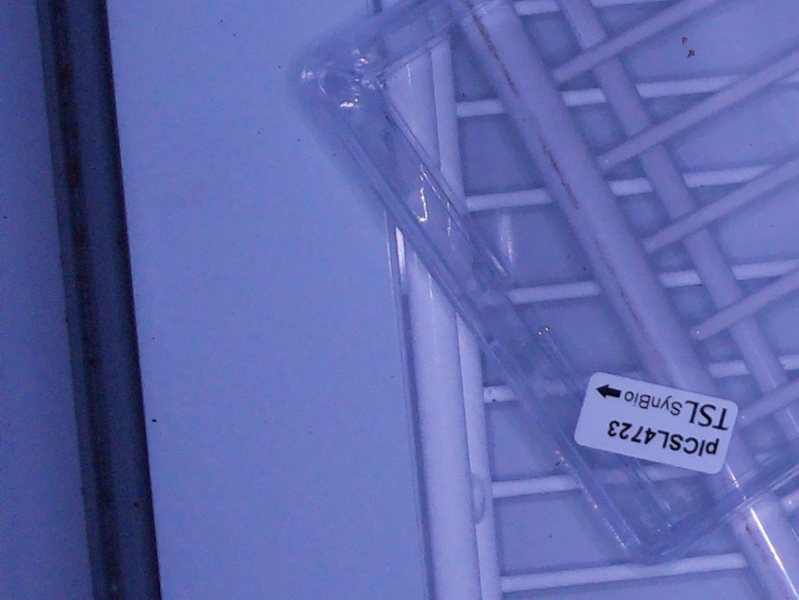plate: (295, 1, 799, 568)
